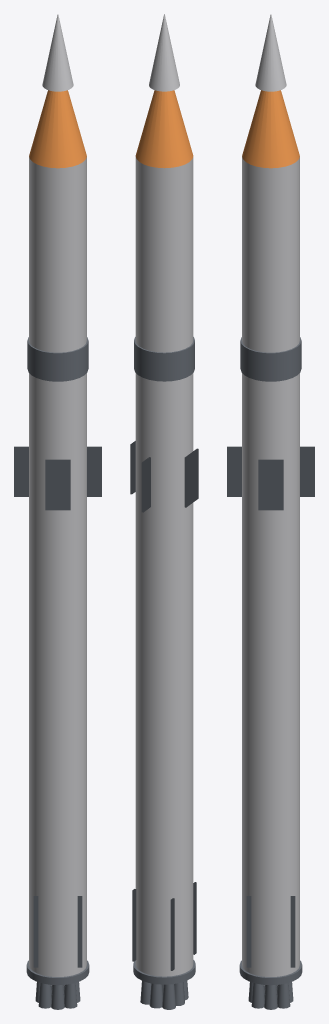
The model's file is rocket.glb.
The picture shows the model from 3 angles, left to right: view 1: azimuth 90°, elevation 25°; view 2: azimuth 150°, elevation 25°; view 3: azimuth 270°, elevation 25°; orthographic projection.
Visible parts, largest first — view 1: rocket; view 2: rocket; view 3: rocket.
Part boxes in pixels (bbox=[...]): rocket: bbox=[14, 14, 101, 1009]; rocket: bbox=[130, 14, 198, 1009]; rocket: bbox=[227, 14, 314, 1009].
Size of the model in its own units: 4.12 by 69.5 by 5.6.
